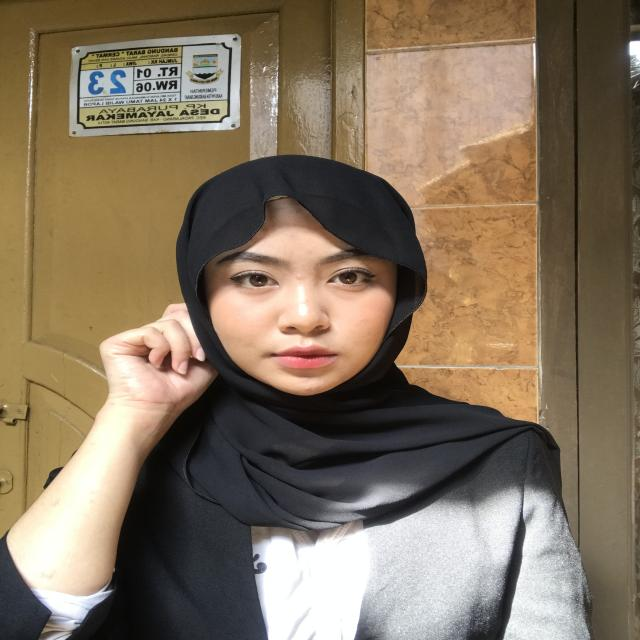ibu: (47, 278, 248, 510)
